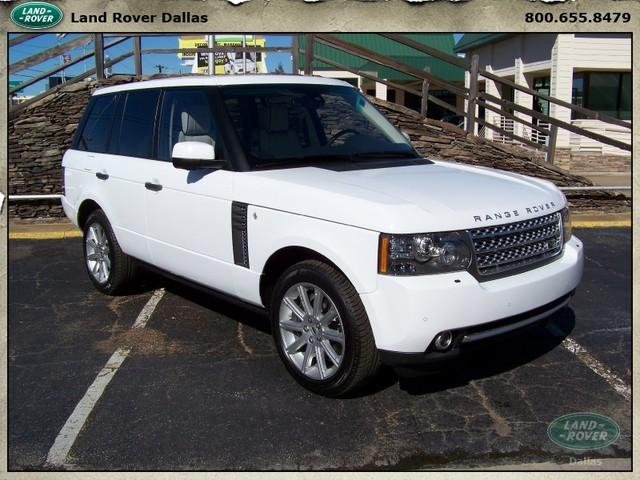range rover: (464, 196, 566, 230)
